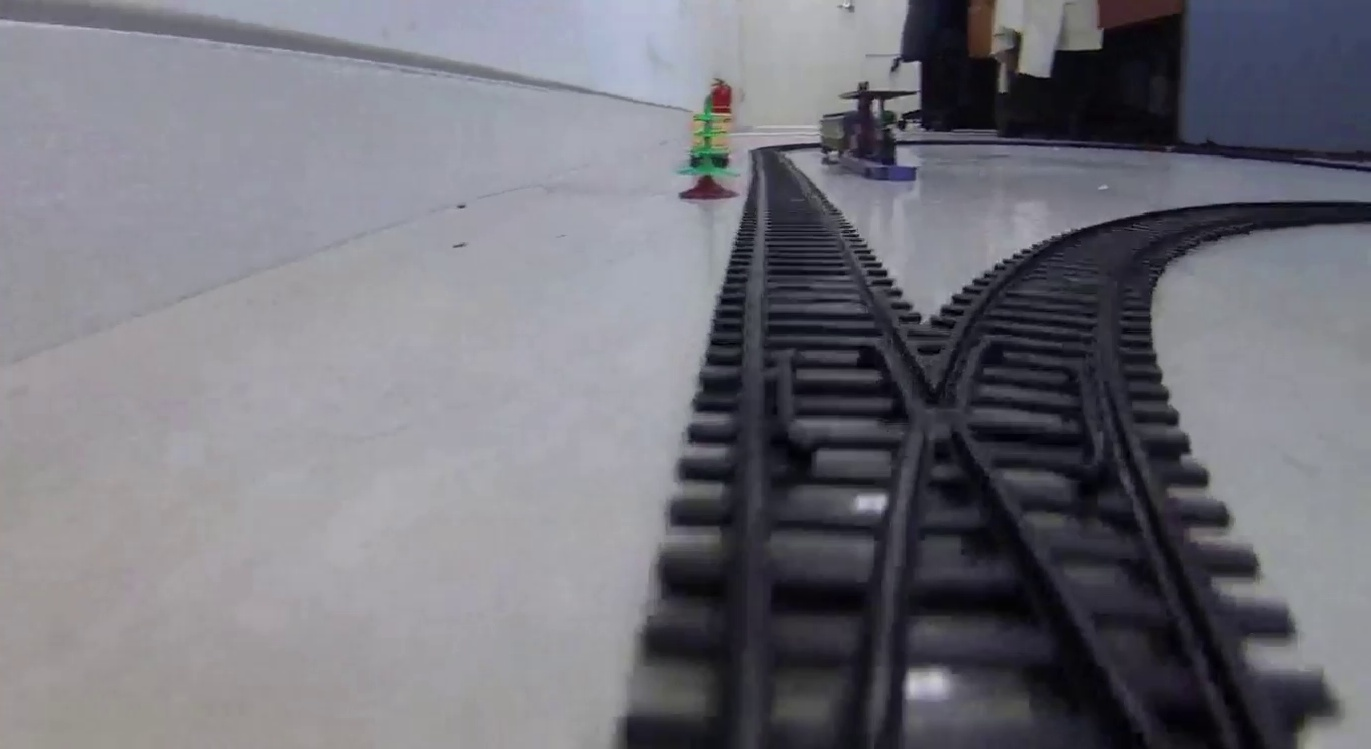tree: (673, 94, 745, 202)
